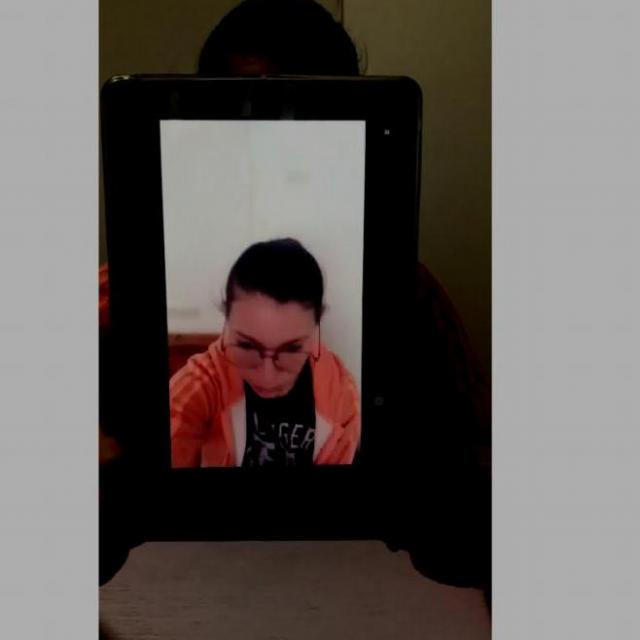device: (99, 69, 423, 525)
